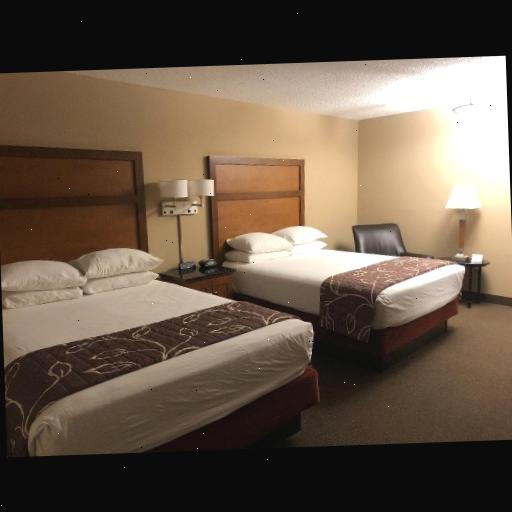clean_bed: (0, 142, 320, 460), (208, 161, 460, 360)
lamp: (444, 182, 485, 262)
organised_pillow: (0, 246, 155, 310), (223, 219, 326, 264)
